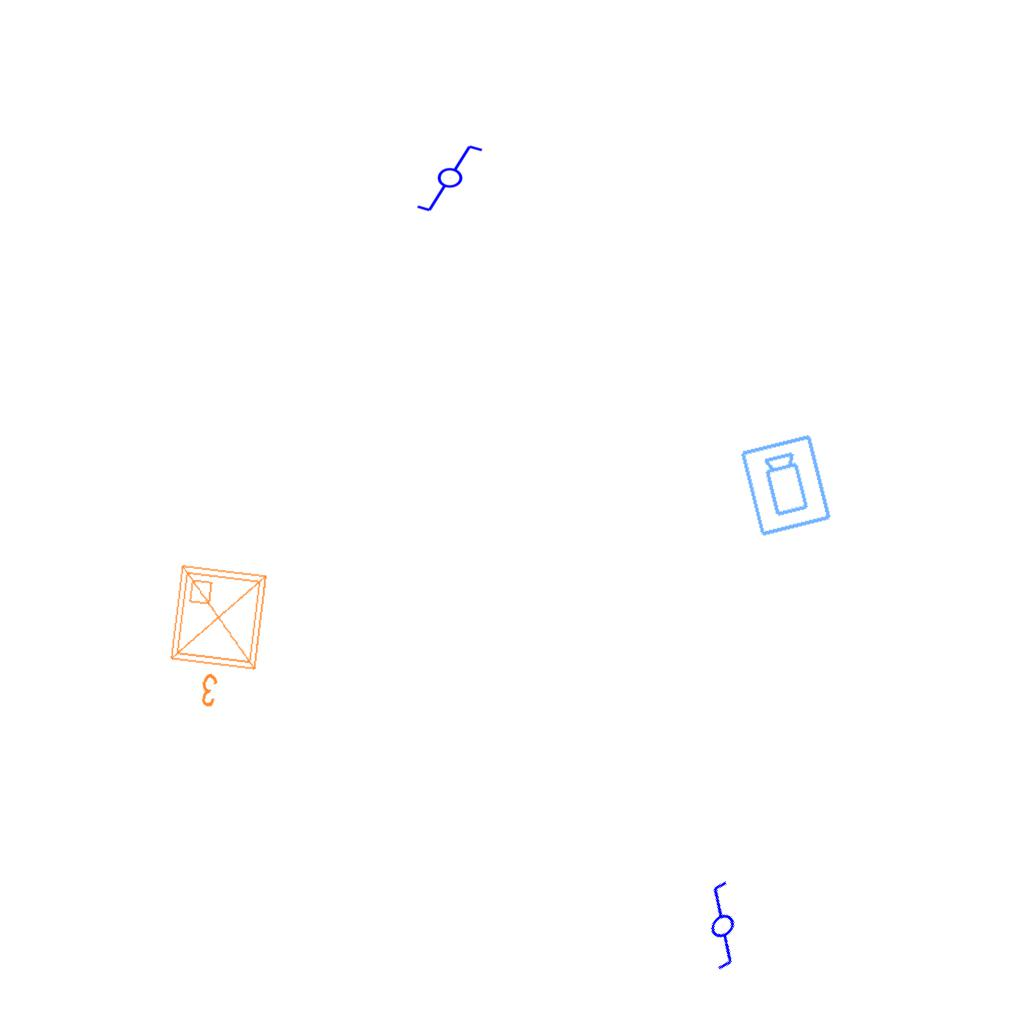Einbaudownlights_LED_Konferenzraeume: (157, 557, 279, 719)
KFO_Kamera_mit_Festobjektiv: (738, 432, 835, 539)
Wechselschalter: (665, 875, 773, 981), (415, 143, 493, 215)
